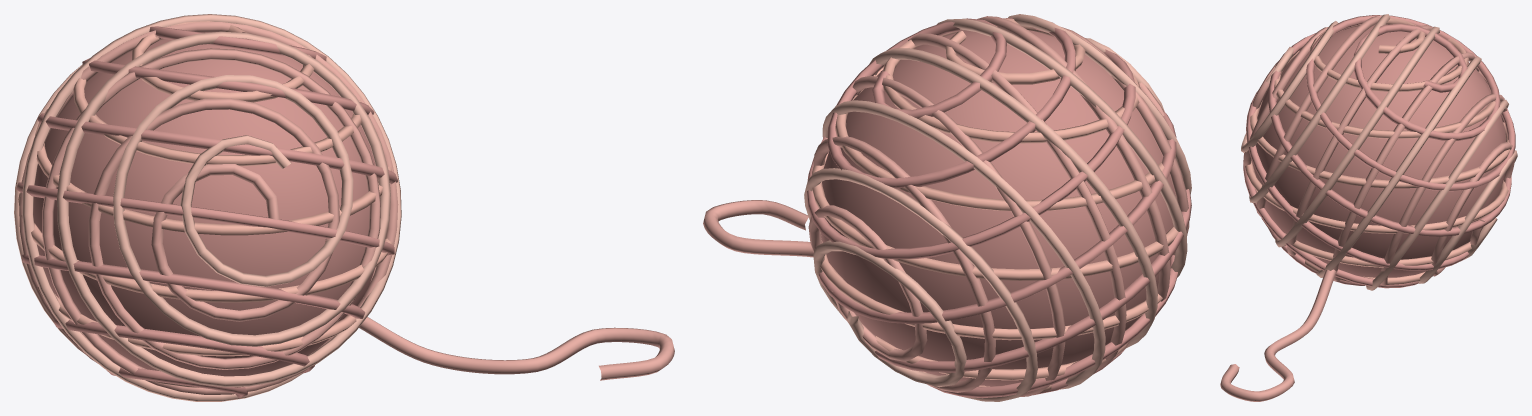
File: yarn.glb
3 renders of one model, left to right at view 1: azimuth 30°, elevation 25°; view 2: azimuth 150°, elevation 25°; view 3: azimuth 270°, elevation 25°, orthographic. The views are drawn at different scales.
Visible parts, largest first — view 1: YarnCore, Winding_4, Winding_2, Winding_3, Winding_1, LooseYarnEnd; view 2: YarnCore, Winding_4, Winding_3, Winding_2, Winding_1, LooseYarnEnd; view 3: YarnCore, Winding_3, Winding_4, Winding_2, Winding_1, LooseYarnEnd.
Boxes of the visible parts, bbox=[...] form: YarnCore: bbox=[33, 32, 378, 376]; Winding_4: bbox=[14, 14, 401, 401]; Winding_2: bbox=[19, 22, 398, 394]; Winding_3: bbox=[16, 26, 397, 397]; Winding_1: bbox=[18, 21, 392, 388]; LooseYarnEnd: bbox=[359, 317, 674, 380]; YarnCore: bbox=[821, 30, 1175, 386]; Winding_4: bbox=[804, 14, 1191, 401]; Winding_3: bbox=[806, 17, 1191, 398]; Winding_2: bbox=[808, 16, 1189, 396]; Winding_1: bbox=[812, 18, 1178, 391]; LooseYarnEnd: bbox=[703, 200, 813, 257]; YarnCore: bbox=[1251, 24, 1506, 277]; Winding_3: bbox=[1243, 15, 1515, 288]; Winding_4: bbox=[1241, 14, 1517, 290]; Winding_2: bbox=[1243, 16, 1514, 285]; Winding_1: bbox=[1245, 17, 1510, 284]; LooseYarnEnd: bbox=[1220, 269, 1336, 401].
Bounding box in the file's own units: 1.14 × 0.7072 × 0.7597.
